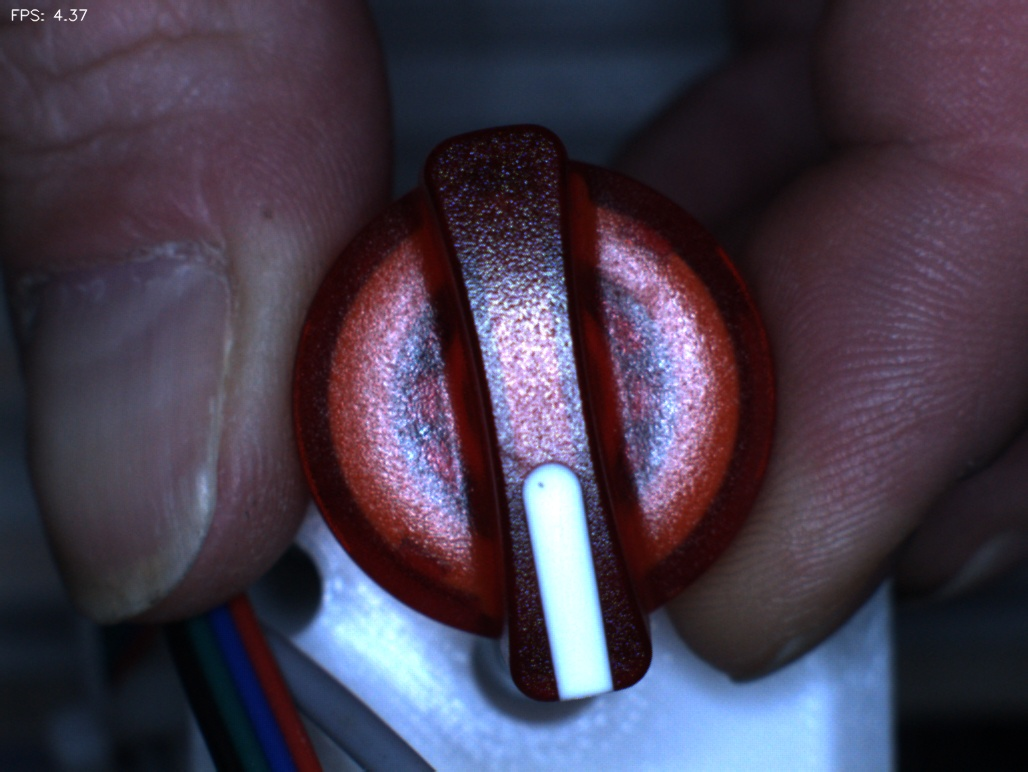PointNoir: (510, 455, 575, 520)
